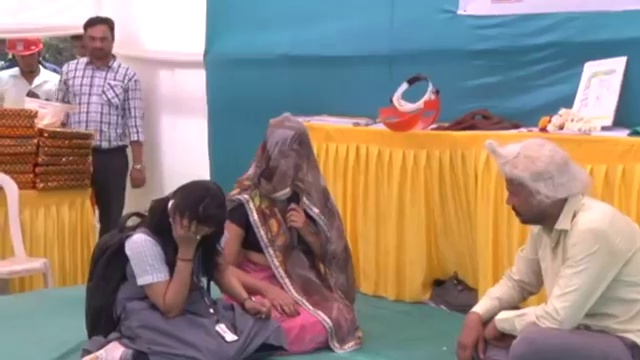helmet: (18, 93, 81, 130), (7, 37, 39, 58)
helmet_off: (498, 148, 581, 235), (160, 180, 223, 248), (260, 119, 314, 190), (73, 15, 116, 61), (25, 17, 64, 42)
helmet_on: (6, 35, 46, 80)
person: (446, 135, 640, 360), (214, 120, 356, 349), (82, 174, 248, 351), (52, 11, 143, 270), (1, 172, 46, 290), (0, 34, 67, 110)
